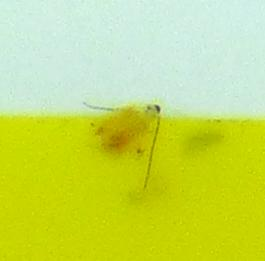Coleoptera: (100, 100, 165, 161)
